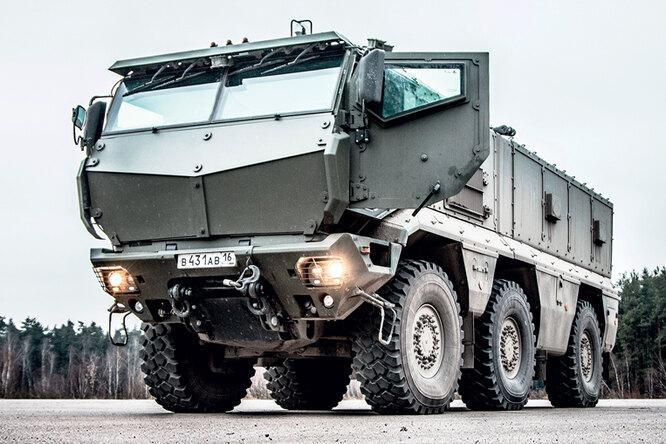truck: (69, 20, 624, 419)
